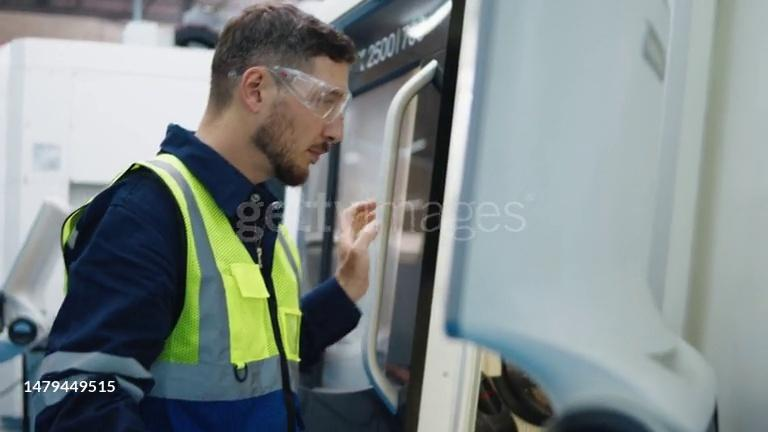person: (28, 4, 381, 430)
